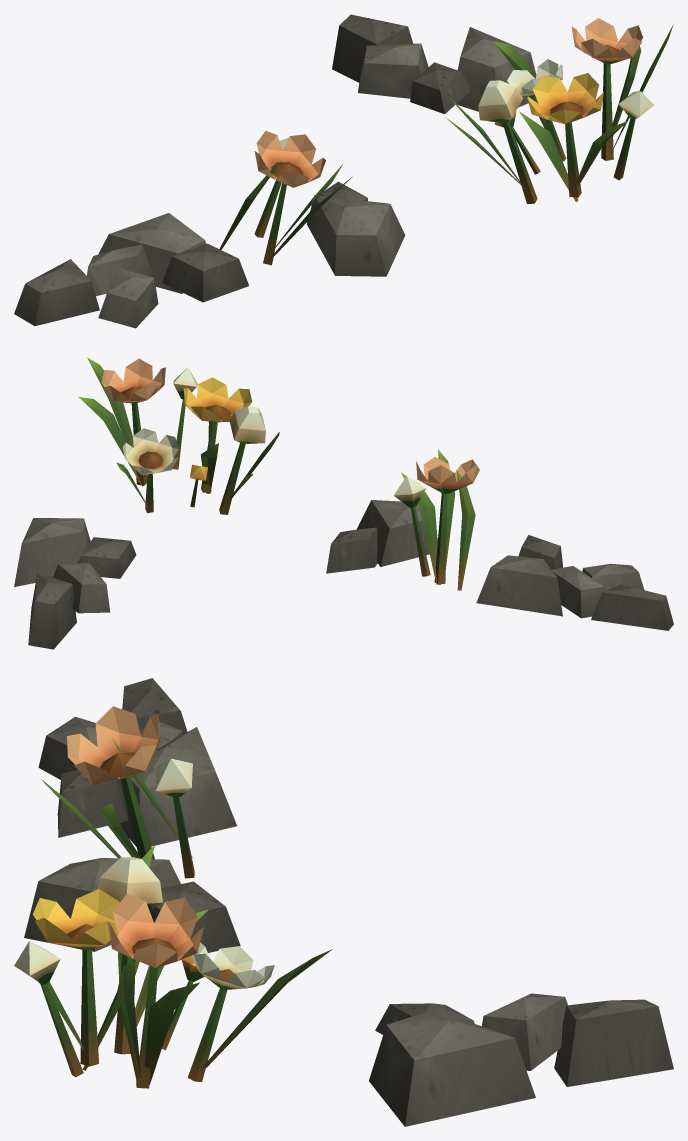
File: flower_WH01_V02.FBX
3 views of the same model, one above another, from view 1: azimuth 30°, elevation 25°; view 2: azimuth 150°, elevation 25°; view 3: azimuth 270°, elevation 25° (orthographic). The views are drawn at different scales.
Parts seen in each view (by area): view 1: flower_WH01_V02; view 2: flower_WH01_V02; view 3: flower_WH01_V02.
Boxes of the visible parts, bbox=[...] form: flower_WH01_V02: bbox=[14, 14, 673, 328]; flower_WH01_V02: bbox=[14, 357, 673, 649]; flower_WH01_V02: bbox=[14, 678, 673, 1126].
Size of the model in its own units: 1.6 by 0.3662 by 1.02.
